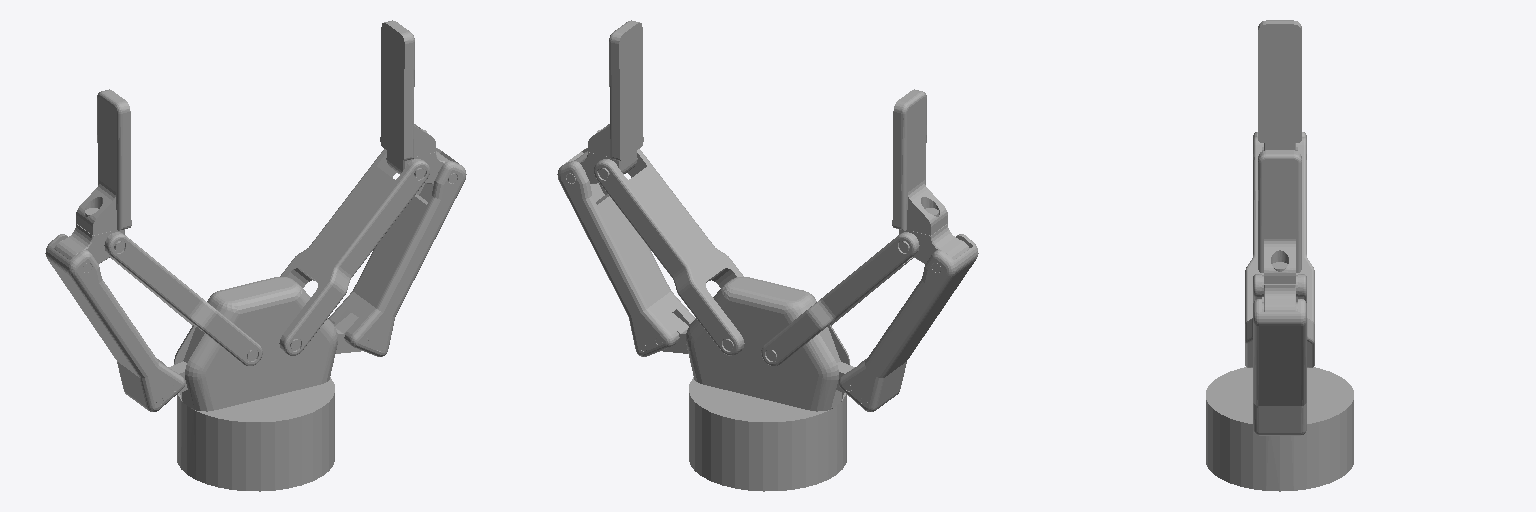
The robot description file, URDF, robot "one_link_gripper":
<?xml version="1.0"?>
<robot name="one_link_gripper">

  <link name="gripper_link">
    <!-- Visual: local STL -->
    <visual>
      <origin xyz="0 0 0" rpy="0 0 0"/>
      <geometry>
        <mesh filename="robotiq_2F_adaptive_gripper_rough.STL" scale="0.001 0.001 0.001"/>
      </geometry>
      <!-- optional -->
      <material name="gray">
        <color rgba="0.7 0.7 0.7 1.0"/>
      </material>
    </visual>

    <!-- Optional collision: same mesh (can be heavy) -->
    <collision>
      <origin xyz="0 0 0" rpy="0 0 0"/>
      <geometry>
        <mesh filename="robotiq_2F_adaptive_gripper_rough.STL" scale="0.001 0.001 0.001"/>
      </geometry>
    </collision>

    <!-- Minimal inertial (replace with real values if you have them) -->
    <inertial>
      <origin xyz="0 0 0" rpy="0 0 0"/>
      <mass value="1.0"/>
      <inertia ixx="0.001" ixy="0.0" ixz="0.0" iyy="0.001" iyz="0.0" izz="0.001"/>
    </inertial>
  </link>

</robot>

--- What the picture shows (computed from the rendered views, not written in the file) ---
The picture shows the robot from 3 angles, left to right: view 1: azimuth 30°, elevation 25°; view 2: azimuth 150°, elevation 25°; view 3: azimuth 270°, elevation 25°; orthographic projection.
Robot: one_link_gripper — 1 links, 0 joints (none); root link gripper_link; default pose: all joints at 0.
Visible links, largest first — view 1: gripper_link; view 2: gripper_link; view 3: gripper_link.
Boxes of the visible links, bbox=[...] form: gripper_link: bbox=[45, 20, 466, 491]; gripper_link: bbox=[557, 20, 978, 491]; gripper_link: bbox=[1206, 20, 1353, 491].
Bounding box of the posed robot: 0.2168 × 0.0747 × 0.2066 m (x, y, z).
1 mesh visuals loaded from 1 distinct referenced files (1 binary STL).
